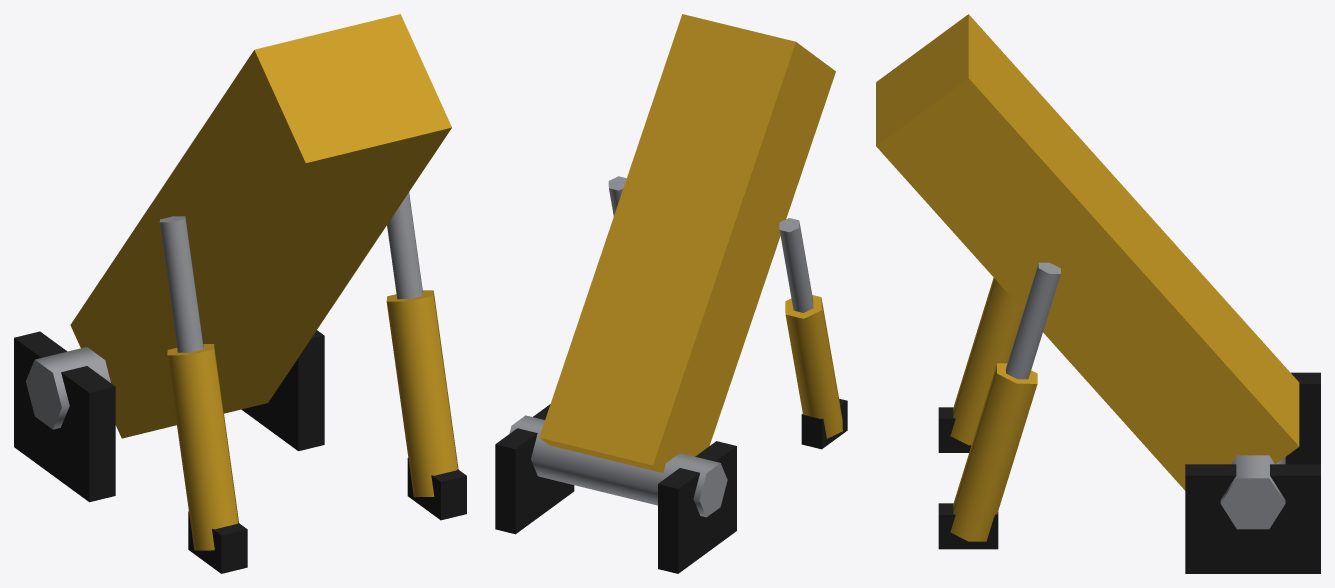
The model's file is mk1_boom.obj.
3 renders of one model, left to right at view 1: azimuth 30°, elevation 25°; view 2: azimuth 150°, elevation 25°; view 3: azimuth 270°, elevation 25°, orthographic. The views are drawn at different scales.
Parts seen in each view (by area): view 1: mk1_boom; view 2: mk1_boom; view 3: mk1_boom.
Boxes of the visible parts, x1,y1,x2,y2 form: mk1_boom: (14,14,466,573); mk1_boom: (495,14,847,573); mk1_boom: (876,14,1320,573).
Size of the model in its own units: 1.02 by 1.94 by 1.64.
